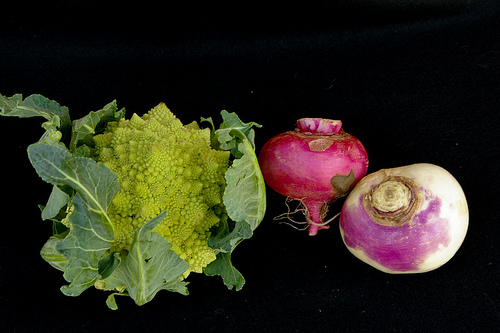turnip: (341, 159, 470, 274), (259, 116, 369, 240)
